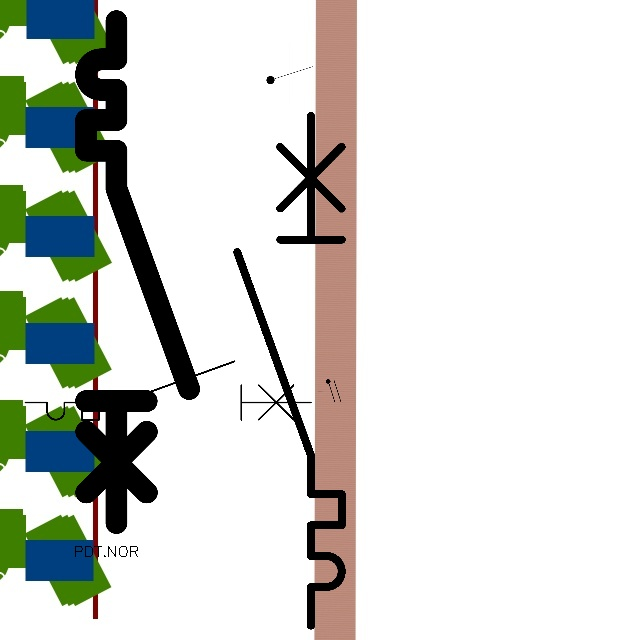interruptor_termomagnetico: (224, 102, 355, 638), (73, 8, 202, 536), (18, 354, 318, 427)
